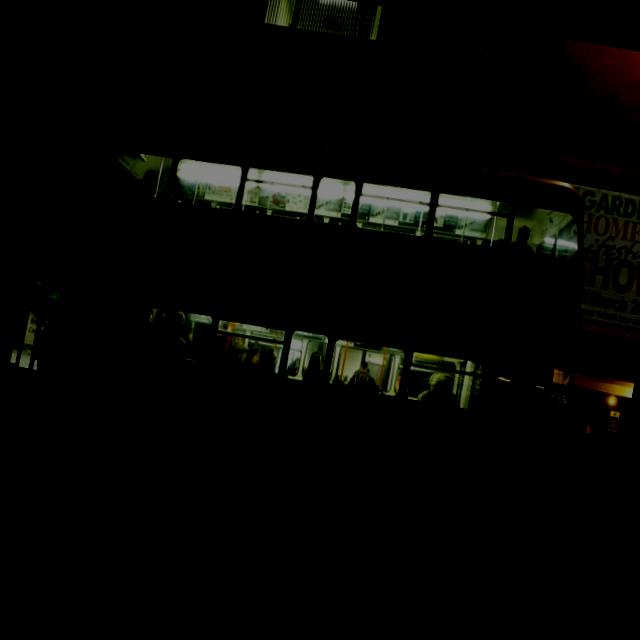Vehicle: (25, 102, 612, 580)
